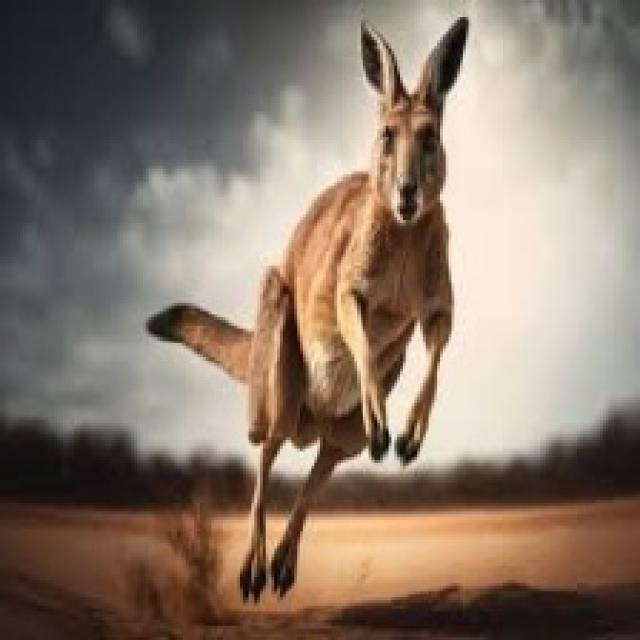bear: (174, 12, 556, 611)
